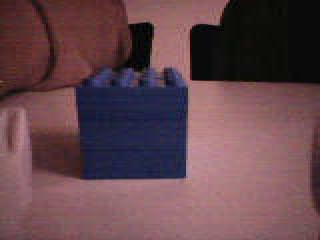legocube: (71, 65, 191, 183)
